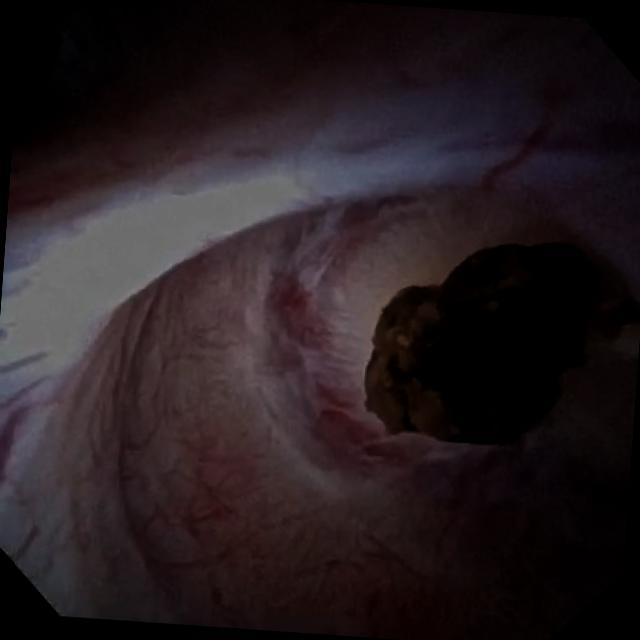stone-new: (364, 243, 640, 444)
